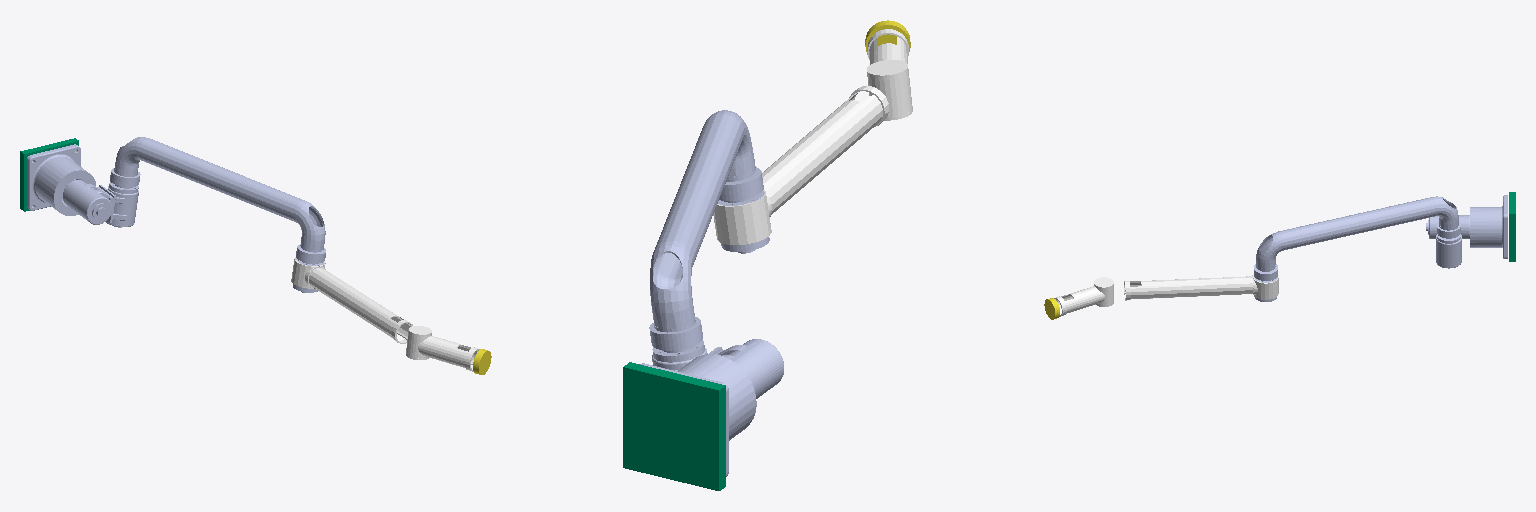
robot.urdf — catch01__starlink_sldasm9:
<?xml version='1.0' encoding='utf-8'?>
<robot name="catch01__starlink_sldasm9">
  <link name="base_link">
    <visual>
      <geometry>
        <mesh filename="../satellites/catch01/satellite.stl" />
      </geometry>
    </visual>
    <collision>
      <geometry>
        <mesh filename="../satellites/catch01/satellite.stl" />
      </geometry>
    </collision>
  </link>
  <link name="catch01_mount" />
  <joint name="satellite_mount_fixed" type="fixed">
    <parent link="base_link" />
    <child link="catch01_mount" />
    <origin xyz="0.09559771518449763 -1.6485399213057776 -0.16306270113460017" rpy="1.5707963267948966 -1.5707963267948966 0.0" />
  </joint>
  <link name="mount_support">
    <visual>
      <geometry>
        <mesh filename="../satellites/catch01/mount_support.stl" />
      </geometry>
    </visual>
    <collision>
      <geometry>
        <mesh filename="../satellites/catch01/mount_support.stl" />
      </geometry>
    </collision>
  </link>
  <joint name="support_fixed" type="fixed">
    <parent link="catch01_mount" />
    <child link="mount_support" />
    <origin xyz="0 0 0" rpy="0 0 0" />
  </joint>
  <joint name="arm_adapter_fixed" type="fixed">
    <parent link="catch01_mount" />
    <child link="starlink_space_manipulator_base_link" />
    <origin xyz="0.009087204933166504 0.008519247174263 0.16000000119209293" rpy="-1.5707963267948966 0 0.0" />
  </joint>
  <link name="starlink_space_manipulator_base_link">
    <inertial>
      <origin xyz="-0.00908719924946466 0.0225428225681148 -0.00851924929637313" rpy="0 0 0" />
      <mass value="8.66024015898073" />
      <inertia ixx="0.0960303512697639" ixy="1.65511904636803E-18" ixz="6.22039820639877E-19" iyy="0.103454922260914" iyz="-9.68471289978311E-19" izz="0.0960303512697639" />
    </inertial>
    <visual>
      <origin xyz="0 0 0" rpy="0 0 0" />
      <geometry>
        <mesh filename="../arms/starlink_sldasm9/meshes/starlink_space_manipulator_base_link.STL" />
      </geometry>
      <material name="">
        <color rgba="0.792156862745098 0.819607843137255 0.933333333333333 1" />
      </material>
    </visual>
    <collision>
      <origin xyz="0 0 0" rpy="0 0 0" />
      <geometry>
        <mesh filename="../arms/starlink_sldasm9/meshes/starlink_space_manipulator_base_link.STL" />
      </geometry>
    </collision>
  </link>
  <link name="starlink_space_manipulator_Shoulder_link_1">
    <inertial>
      <origin xyz="-0.000399471745595769 -0.100006574194712 -0.17423940484461" rpy="0 0 0" />
      <mass value="5.16309216784981" />
      <inertia ixx="0.0524543852135592" ixy="0.00348154867667969" ixz="6.96526910910627E-05" iyy="0.0306595326318824" iyz="-0.00056674368052247" izz="0.0439979075615329" />
    </inertial>
    <visual>
      <origin xyz="0 0 0" rpy="0 0 0" />
      <geometry>
        <mesh filename="../arms/starlink_sldasm9/meshes/starlink_space_manipulator_Shoulder_link_1.STL" />
      </geometry>
      <material name="">
        <color rgba="0.792156862745098 0.819607843137255 0.933333333333333 1" />
      </material>
    </visual>
    <collision>
      <origin xyz="0 0 0" rpy="0 0 0" />
      <geometry>
        <mesh filename="../arms/starlink_sldasm9/meshes/starlink_space_manipulator_Shoulder_link_1.STL" />
      </geometry>
    </collision>
  </link>
  <joint name="starlink_space_manipulator_Shoulder_link_1_yaw" type="revolute">
    <origin xyz="-0.0090872 -0.065 -0.0085192" rpy="1.5708 -0.15574 3.1416" />
    <parent link="starlink_space_manipulator_base_link" />
    <child link="starlink_space_manipulator_Shoulder_link_1" />
    <axis xyz="0 0 -1" />
    <limit lower="-3.14" upper="3.14" effort="0" velocity="0" />
  </joint>
  <link name="starlink_space_manipulator_Upper_arm_Link_1">
    <inertial>
      <origin xyz="0.402106341472203 -0.696465272634528 -0.170177523085579" rpy="0 0 0" />
      <mass value="5.05309869040685" />
      <inertia ixx="0.388719013133801" ixy="0.210155896498943" ixz="9.30829370680679E-08" iyy="0.146049057575642" iyz="1.71830458004218E-07" izz="0.500677708275447" />
    </inertial>
    <visual>
      <origin xyz="0 0 0" rpy="0 0 0" />
      <geometry>
        <mesh filename="../arms/starlink_sldasm9/meshes/starlink_space_manipulator_Upper_arm_Link_1.STL" />
      </geometry>
      <material name="">
        <color rgba="0.792156862745098 0.819607843137255 0.933333333333333 1" />
      </material>
    </visual>
    <collision>
      <origin xyz="0 0 0" rpy="0 0 0" />
      <geometry>
        <mesh filename="../arms/starlink_sldasm9/meshes/starlink_space_manipulator_Upper_arm_Link_1.STL" />
      </geometry>
    </collision>
  </link>
  <joint name="starlink_space_manipulator_Upper_arm_Link_1_roll" type="revolute">
    <origin xyz="0 -0.2 -0.18" rpy="1.5708 0.90646 1.5708" />
    <parent link="starlink_space_manipulator_Shoulder_link_1" />
    <child link="starlink_space_manipulator_Upper_arm_Link_1" />
    <axis xyz="0 0 -1" />
    <limit lower="-2" upper="1.5" effort="0" velocity="0" />
  </joint>
  <link name="starlink_space_manipulator_Mid_arm_Link_1">
    <inertial>
      <origin xyz="-0.000406052776441013 0.317722269561105 0.0155331755135703" rpy="0 0 0" />
      <mass value="1.57635531881168" />
      <inertia ixx="0.133610363618846" ixy="5.33750993405138E-05" ixz="-3.60473795202962E-09" iyy="0.00502119434334708" iyz="-2.514275749911E-05" izz="0.134586018527477" />
    </inertial>
    <visual>
      <origin xyz="0 0 0" rpy="0 0 0" />
      <geometry>
        <mesh filename="../arms/starlink_sldasm9/meshes/starlink_space_manipulator_Mid_arm_Link_1.STL" />
      </geometry>
      <material name="">
        <color rgba="1 1 1 1" />
      </material>
    </visual>
    <collision>
      <origin xyz="0 0 0" rpy="0 0 0" />
      <geometry>
        <mesh filename="../arms/starlink_sldasm9/meshes/starlink_space_manipulator_Mid_arm_Link_1.STL" />
      </geometry>
    </collision>
  </link>
  <joint name="starlink_space_manipulator_Mid_arm_Link_1_roll" type="revolute">
    <origin xyz="0.599999999999673 -1.03923048454122 0" rpy="-3.14159265358979 0 0.828250280535091" />
    <parent link="starlink_space_manipulator_Upper_arm_Link_1" />
    <child link="starlink_space_manipulator_Mid_arm_Link_1" />
    <axis xyz="0 0 -1" />
    <limit lower="-3.14" upper="3.14" effort="0" velocity="0" />
  </joint>
  <link name="starlink_space_manipulator_Upper_wrist_Link_1">
    <inertial>
      <origin xyz="-0.000400003664721815 -0.201565878030355 -0.00216705855311664" rpy="0 0 0" />
      <mass value="0.994770641034713" />
      <inertia ixx="0.00165409639029414" ixy="-7.59103925411082E-06" ixz="-3.17403155320863E-06" iyy="0.00201437937768072" iyz="2.63246464091218E-06" izz="0.00159638838344539" />
    </inertial>
    <visual>
      <origin xyz="0 0 0" rpy="0 0 0" />
      <geometry>
        <mesh filename="../arms/starlink_sldasm9/meshes/starlink_space_manipulator_Upper_wrist_Link_1.STL" />
      </geometry>
      <material name="">
        <color rgba="0.792156862745098 0.819607843137255 0.933333333333333 1" />
      </material>
    </visual>
    <collision>
      <origin xyz="0 0 0" rpy="0 0 0" />
      <geometry>
        <mesh filename="../arms/starlink_sldasm9/meshes/starlink_space_manipulator_Upper_wrist_Link_1.STL" />
      </geometry>
    </collision>
  </link>
  <joint name="starlink_space_manipulator_Upper_wrist_Link_1_yaw" type="revolute">
    <origin xyz="-0.00050155183276912 0.686793643713439 0.0155010481432086" rpy="0 -0.0763876794035917 3.14159265358979" />
    <parent link="starlink_space_manipulator_Mid_arm_Link_1" />
    <child link="starlink_space_manipulator_Upper_wrist_Link_1" />
    <axis xyz="0 -1 0" />
    <limit lower="-3.14" upper="3.14" effort="0" velocity="0" />
  </joint>
  <link name="starlink_space_manipulator_Upper_wrist_Link_2">
    <inertial>
      <origin xyz="8.45304168883843E-08 0.0848318719623631 -0.00515657391755576" rpy="0 0 0" />
      <mass value="1.03716823037577" />
      <inertia ixx="0.0100970561498589" ixy="1.32295633551837E-09" ixz="-9.43675929999229E-09" iyy="0.00222325407426665" iyz="-2.08772874866187E-06" izz="0.0105840577017538" />
    </inertial>
    <visual>
      <origin xyz="0 0 0" rpy="0 0 0" />
      <geometry>
        <mesh filename="../arms/starlink_sldasm9/meshes/starlink_space_manipulator_Upper_wrist_Link_2.STL" />
      </geometry>
      <material name="">
        <color rgba="1 1 1 1" />
      </material>
    </visual>
    <collision>
      <origin xyz="0 0 0" rpy="0 0 0" />
      <geometry>
        <mesh filename="../arms/starlink_sldasm9/meshes/starlink_space_manipulator_Upper_wrist_Link_2.STL" />
      </geometry>
    </collision>
  </link>
  <joint name="starlink_space_manipulator_Upper_wrist_Link_2_roll" type="revolute">
    <origin xyz="0 -0.30020635628656 0" rpy="-0.0158640776811277 -0.0317448426184613 -2.67805461574742" />
    <parent link="starlink_space_manipulator_Upper_wrist_Link_1" />
    <child link="starlink_space_manipulator_Upper_wrist_Link_2" />
    <axis xyz="0 0 1" />
    <limit lower="-2.5" upper="1.8" effort="0" velocity="0" />
  </joint>
  <link name="starlink__space_manipulator_2F-Body_Link">
    </link>
  <joint name="starlink__space_manipulator_2F-Body_Link_yaw" type="revolute">
    <origin xyz="0 0.34845 -0.0053813" rpy="-3.1416 0.93592 0" />
    <parent link="starlink_space_manipulator_Upper_wrist_Link_2" />
    <child link="starlink__space_manipulator_2F-Body_Link" />
    <axis xyz="0 -1 0" />
    <limit lower="-3.14" upper="3.14" effort="0" velocity="0" />
  </joint>
  <link name="angular_hand">
    <visual>
      <geometry>
        <mesh filename="../arms/starlink_sldasm9/meshes/hand_2finger.STL" scale="2 2 2" />
      </geometry>
    </visual>
    <collision>
      <geometry>
        <mesh filename="../arms/starlink_sldasm9/meshes/hand_2finger.STL" scale="2 2 2" />
      </geometry>
    </collision>
  </link>
  <joint name="angular_hand_fixed" type="fixed">
    <parent link="starlink__space_manipulator_2F-Body_Link" />
    <child link="angular_hand" />
    <origin xyz="0 -0.036 0" rpy="-1.5707963267948966 0 0" />
  </joint>
  <link name="angular_adapter">
    <visual>
      <geometry>
        <mesh filename="../arms/starlink_sldasm9/meshes/angular_adapter.stl" />
      </geometry>
    </visual>
    <collision>
      <geometry>
        <mesh filename="../arms/starlink_sldasm9/meshes/angular_adapter.stl" />
      </geometry>
    </collision>
  </link>
  <joint name="angular_adapter_fixed" type="fixed">
    <parent link="starlink__space_manipulator_2F-Body_Link" />
    <child link="angular_adapter" />
    <origin xyz="0 -0.0005 0" rpy="1.5707963267948966 0 0" />
  </joint>
  <link name="angular_finger_1">
    <visual>
      <geometry>
        <mesh filename="../arms/starlink_sldasm9/meshes/finger_proximal.STL" scale="2 2 2" />
      </geometry>
    </visual>
    <collision>
      <geometry>
        <mesh filename="../arms/starlink_sldasm9/meshes/finger_proximal.STL" scale="2 2 2" />
      </geometry>
    </collision>
  </link>
  <link name="angular_tip_1">
    <visual>
      <geometry>
        <mesh filename="../arms/starlink_sldasm9/meshes/finger_distal.STL" scale="2 2 2" />
      </geometry>
    </visual>
    <collision>
      <geometry>
        <mesh filename="../arms/starlink_sldasm9/meshes/finger_distal.STL" scale="2 2 2" />
      </geometry>
    </collision>
  </link>
  <joint name="angular_joint_1" type="revolute">
    <parent link="angular_hand" />
    <child link="angular_finger_1" />
    <axis xyz="0 0 1" />
    <origin xyz="-0.005 0.0619 -0.22964" rpy="-1.570796327 .649262481663582 1.5707963267948966" />
    <limit lower="0" upper="1.51" effort="2" velocity="1" />
  </joint>
  <joint name="angular_joint_tip_1" type="revolute">
    <parent link="angular_finger_1" />
    <child link="angular_tip_1" />
    <axis xyz="0 0 1" />
    <origin xyz="0.088 -0.006 0.0" rpy="0 0 0" />
    <limit lower="0" upper="2" effort="2" velocity="1" />
  </joint>
  <link name="angular_finger_2">
    <visual>
      <geometry>
        <mesh filename="../arms/starlink_sldasm9/meshes/finger_proximal.STL" scale="2 2 2" />
      </geometry>
    </visual>
    <collision>
      <geometry>
        <mesh filename="../arms/starlink_sldasm9/meshes/finger_proximal.STL" scale="2 2 2" />
      </geometry>
    </collision>
  </link>
  <link name="angular_tip_2">
    <visual>
      <geometry>
        <mesh filename="../arms/starlink_sldasm9/meshes/finger_distal.STL" scale="2 2 2" />
      </geometry>
    </visual>
    <collision>
      <geometry>
        <mesh filename="../arms/starlink_sldasm9/meshes/finger_distal.STL" scale="2 2 2" />
      </geometry>
    </collision>
  </link>
  <joint name="angular_joint_2" type="revolute">
    <parent link="angular_hand" />
    <child link="angular_finger_2" />
    <axis xyz="0 0 1" />
    <origin xyz="-0.005 -0.0619 -0.22964" rpy="-1.570796327 .649262481663582 -1.5707963267948966" />
    <limit lower="0" upper="1.51" effort="2" velocity="1" />
  </joint>
  <joint name="angular_joint_tip_2" type="revolute">
    <parent link="angular_finger_2" />
    <child link="angular_tip_2" />
    <axis xyz="0 0 1" />
    <origin xyz="0.088 -0.006 0.0" rpy="0 0 0" />
    <limit lower="0" upper="2" effort="2" velocity="1" />
  </joint>
  <link name="angular_tcp" />
  <joint name="angular_tcp_fixed" type="fixed">
    <parent link="angular_hand" />
    <child link="angular_tcp" />
    <origin xyz="-0.005 0 -0.34" rpy="3.141592653589793 0 0" />
  </joint>
</robot>

--- What the picture shows (computed from the rendered views, not written in the file) ---
Views: 3 orthographic renders of the robot side by side, from view 1: azimuth 30°, elevation 25°; view 2: azimuth 150°, elevation 25°; view 3: azimuth 270°, elevation 25°.
Model catch01__starlink_sldasm9 with 17 links and 16 joints (10 revolute, 6 fixed), rooted at base_link, posed all joints at 0.
Links seen in each view (by area): view 1: starlink_space_manipulator_Upper_arm_Link_1, starlink_space_manipulator_Shoulder_link_1, starlink_space_manipulator_base_link, starlink_space_manipulator_Mid_arm_Link_1, starlink_space_manipulator_Upper_wrist_Link_2, mount_support; view 2: starlink_space_manipulator_Upper_arm_Link_1, mount_support, starlink_space_manipulator_Mid_arm_Link_1, starlink_space_manipulator_Shoulder_link_1, starlink_space_manipulator_base_link, starlink_space_manipulator_Upper_wrist_Link_2, angular_adapter; view 3: starlink_space_manipulator_Upper_arm_Link_1, starlink_space_manipulator_Mid_arm_Link_1, starlink_space_manipulator_base_link, starlink_space_manipulator_Shoulder_link_1, starlink_space_manipulator_Upper_wrist_Link_2.
Boxes of the visible links, x1=… form: starlink_space_manipulator_Upper_arm_Link_1: x1=114, y1=137, x2=325, y2=292; starlink_space_manipulator_Shoulder_link_1: x1=61, y1=168, x2=140, y2=227; starlink_space_manipulator_base_link: x1=27, y1=144, x2=95, y2=215; starlink_space_manipulator_Mid_arm_Link_1: x1=291, y1=257, x2=412, y2=343; starlink_space_manipulator_Upper_wrist_Link_2: x1=406, y1=326, x2=479, y2=371; mount_support: x1=20, y1=138, x2=78, y2=211; starlink_space_manipulator_Upper_arm_Link_1: x1=650, y1=110, x2=769, y2=332; mount_support: x1=623, y1=362, x2=725, y2=490; starlink_space_manipulator_Mid_arm_Link_1: x1=713, y1=86, x2=888, y2=244; starlink_space_manipulator_Shoulder_link_1: x1=649, y1=317, x2=783, y2=398; starlink_space_manipulator_base_link: x1=640, y1=354, x2=756, y2=476; starlink_space_manipulator_Upper_wrist_Link_2: x1=867, y1=29, x2=912, y2=120; angular_adapter: x1=865, y1=20, x2=910, y2=54; starlink_space_manipulator_Upper_arm_Link_1: x1=1254, y1=196, x2=1458, y2=301; starlink_space_manipulator_Mid_arm_Link_1: x1=1124, y1=274, x2=1278, y2=300; starlink_space_manipulator_base_link: x1=1470, y1=195, x2=1507, y2=258; starlink_space_manipulator_Shoulder_link_1: x1=1426, y1=215, x2=1469, y2=268; starlink_space_manipulator_Upper_wrist_Link_2: x1=1054, y1=277, x2=1113, y2=316.
Size in the robot's own frame: 1.13 by 2.86 by 0.5238 metres.
Meshes: 12 distinct files referenced, 7 mesh visuals loaded (7 binary STL); not drawn: 7 (reference not matched to a file when rendering).
